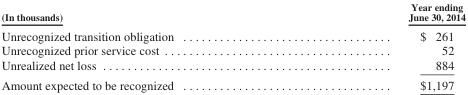table: (0, 0, 464, 91)
table column: (0, 0, 290, 91), (290, 0, 464, 91)
table column header: (0, 0, 464, 25)
table row: (0, 0, 464, 25), (0, 25, 464, 42), (0, 57, 464, 74), (0, 74, 464, 91), (0, 42, 464, 57)
